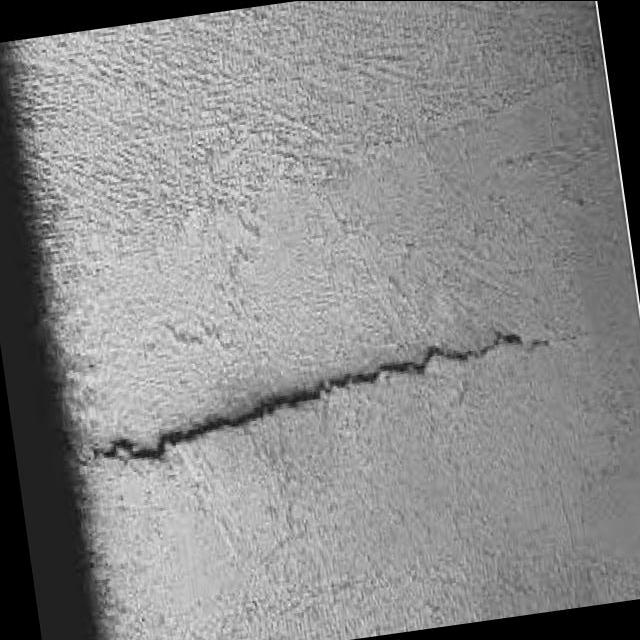defect: (86, 322, 534, 472)
